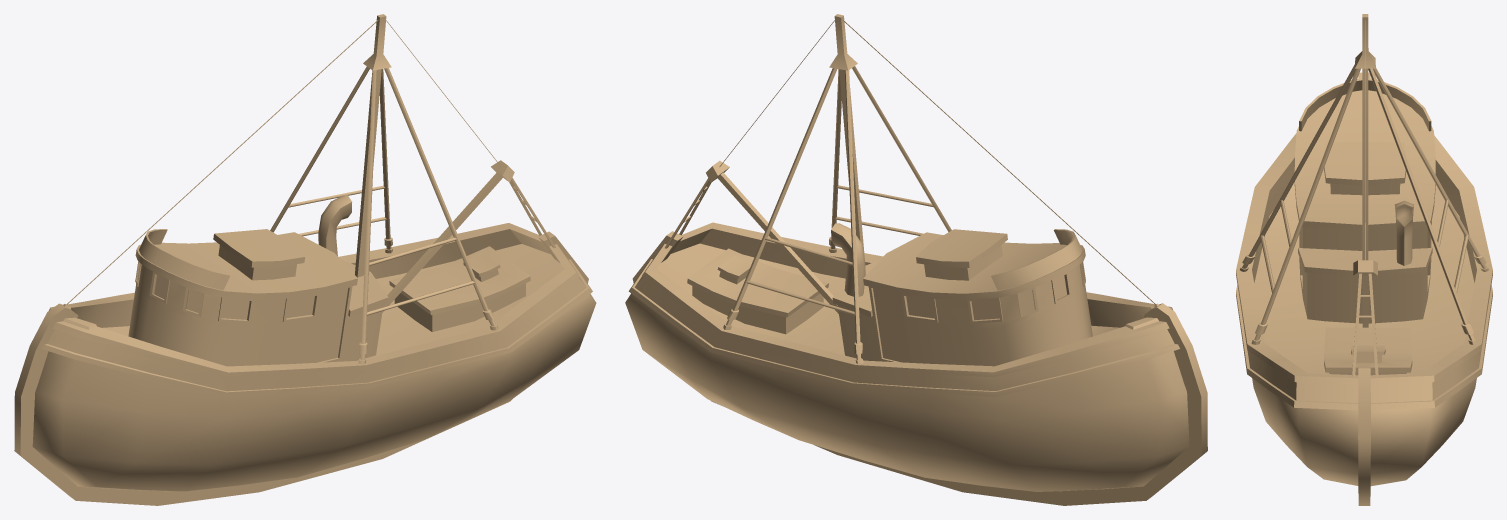
Rendered from Boat_Collab.FBX.
3 views of the same model, side by side, from view 1: azimuth 30°, elevation 25°; view 2: azimuth 150°, elevation 25°; view 3: azimuth 270°, elevation 25° (orthographic). The views are drawn at different scales.
Parts seen in each view (by area): view 1: Boat; view 2: Boat; view 3: Boat.
Part boxes in pixels (bbox=[...]): Boat: bbox=[14, 14, 596, 505]; Boat: bbox=[625, 14, 1207, 505]; Boat: bbox=[1236, 14, 1492, 505].
Bounding box in the file's own units: 60.48 × 45.11 × 22.94.
